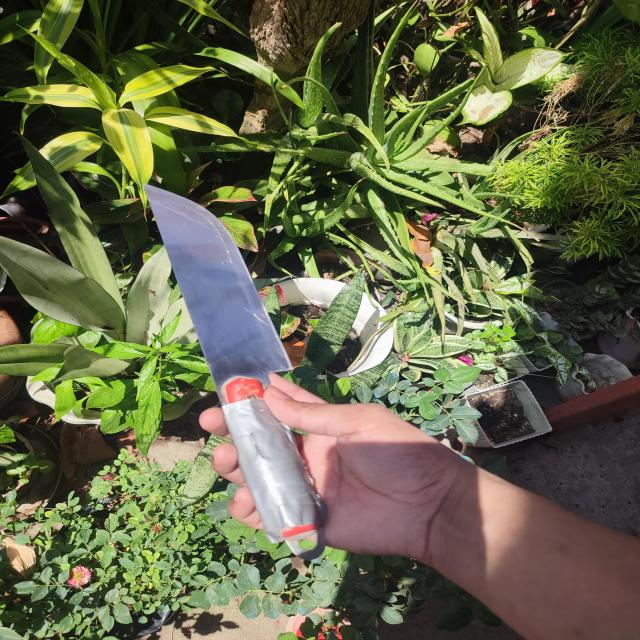knife: (144, 184, 320, 555)
